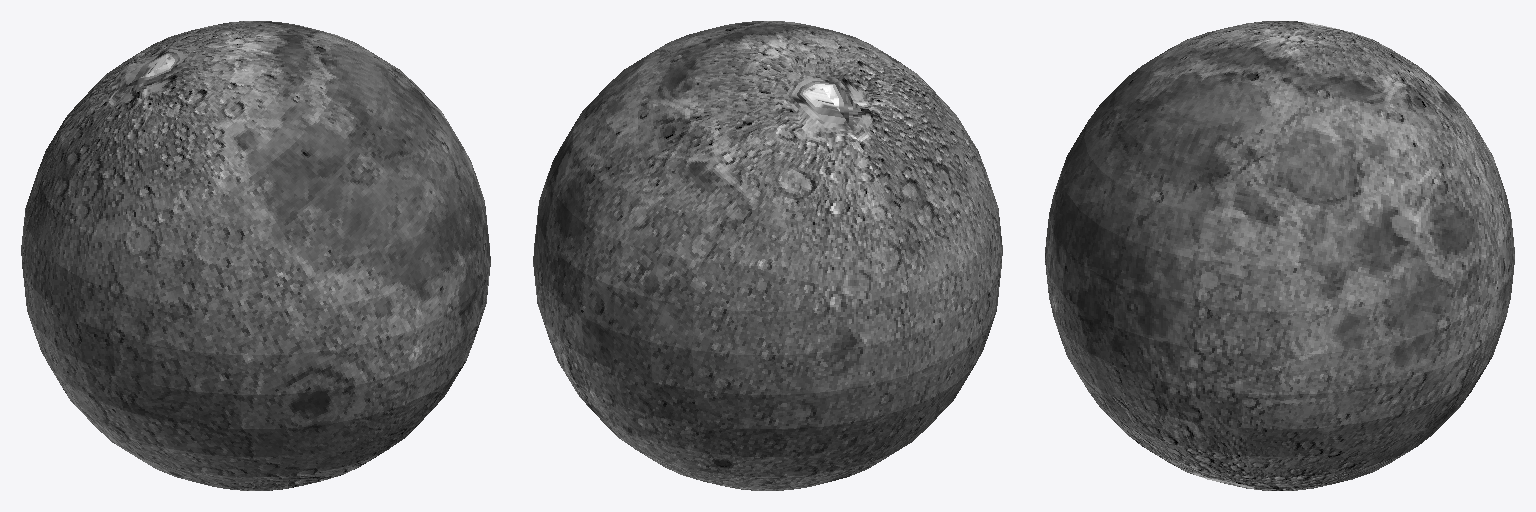
3 renders of one model, left to right at view 1: azimuth 30°, elevation 25°; view 2: azimuth 150°, elevation 25°; view 3: azimuth 270°, elevation 25°, orthographic.
Parts seen in each view (by area): view 1: earth_Sphere.001; view 2: earth_Sphere.001; view 3: earth_Sphere.001.
Boxes of the visible parts, x1,y1,x2,y2 form: earth_Sphere.001: [21, 21, 490, 490]; earth_Sphere.001: [533, 21, 1002, 490]; earth_Sphere.001: [1045, 21, 1514, 490].
Size of the model in its own units: 2 by 2 by 2.
Materials: 1 (1 with a texture image).